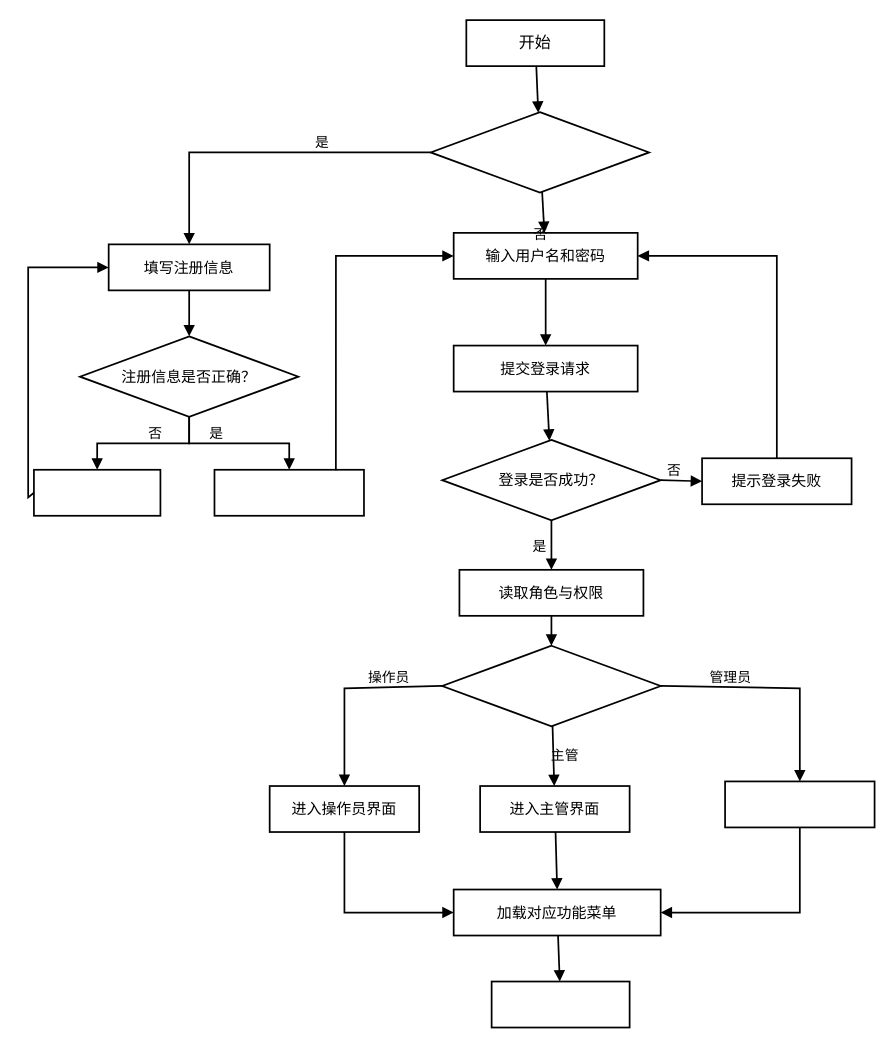
This 896x1049 diagram has some shape labels left out. The centre of each missing label's shape, as x and y in pixels:
是否注册新用户？: the point at 539,152
校验并创建账号: the point at 288,492
注册失败: the point at 97,492
用户角色？: the point at 551,685
结束: the point at 560,1004
进入管理员界面: the point at 799,804
